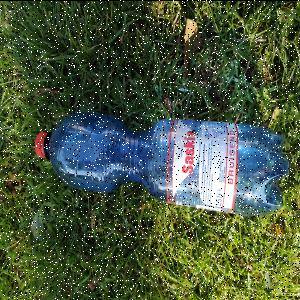Plastic-bottle: (35, 113, 293, 220)
